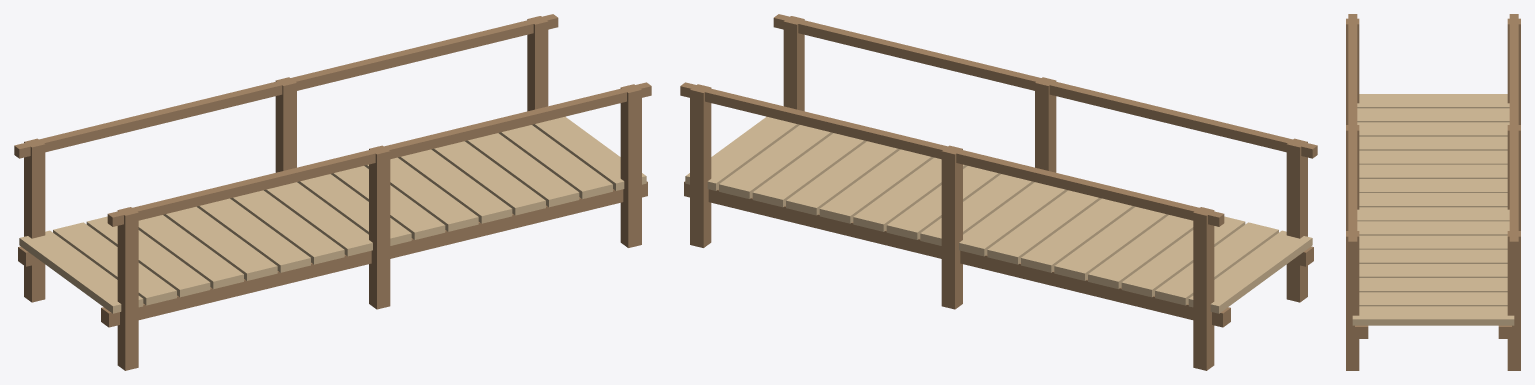
File: hashi.glb
3 views of the same model, side by side, from view 1: azimuth 30°, elevation 25°; view 2: azimuth 150°, elevation 25°; view 3: azimuth 270°, elevation 25° (orthographic). The views are drawn at different scales.
Visible parts, largest first — view 1: hashi; view 2: hashi; view 3: hashi.
Part boxes in pixels (x1=…): hashi: x1=14, y1=14, x2=651, y2=370; hashi: x1=680, y1=14, x2=1317, y2=370; hashi: x1=1346, y1=14, x2=1520, y2=370.
Size of the model in its own units: 6 by 1.65 by 1.95.
